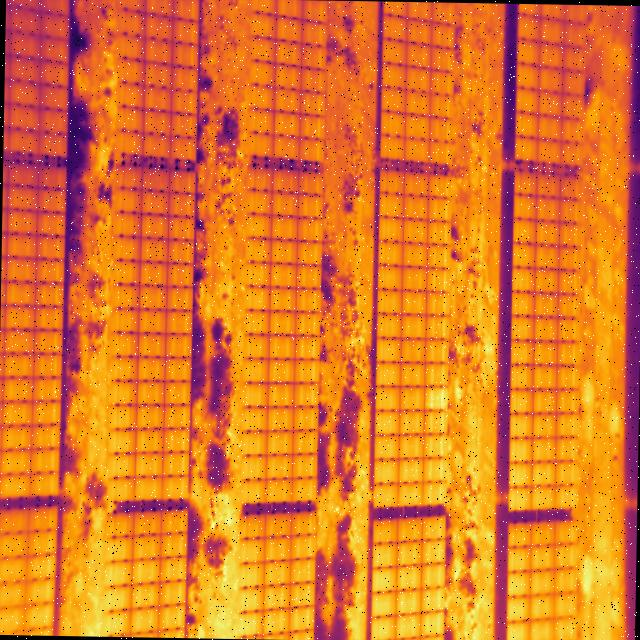Hotspot: (422, 383, 448, 412)
